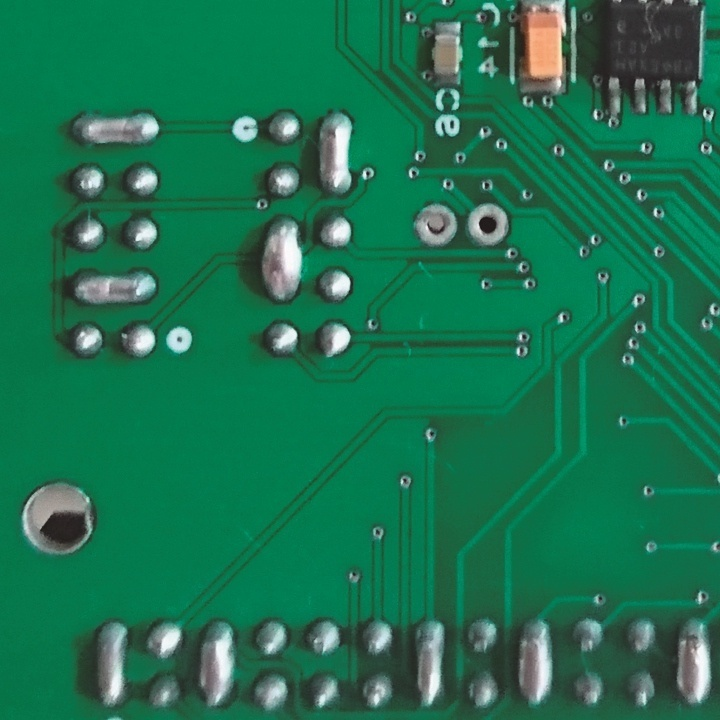F: (463, 200, 513, 251), (413, 201, 461, 250)
P: (667, 615, 714, 706), (257, 214, 303, 306), (314, 109, 361, 199), (194, 616, 239, 709), (67, 109, 164, 151), (68, 268, 160, 310), (513, 618, 556, 706), (409, 618, 448, 708), (93, 618, 127, 710)
